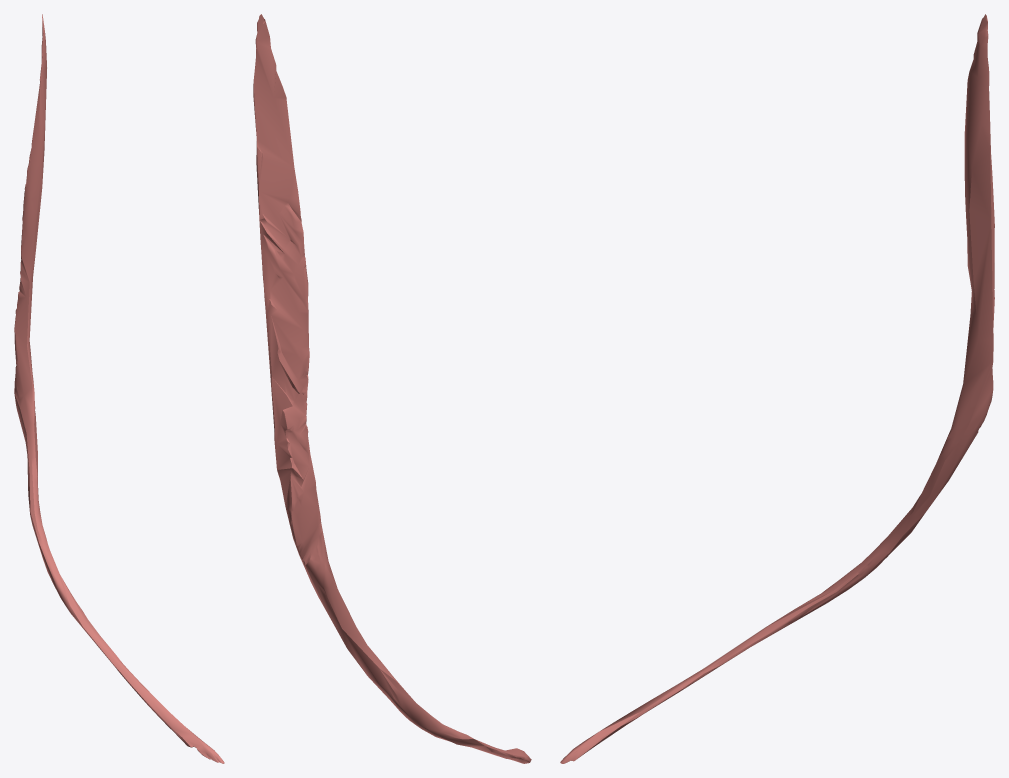
The model's file is fma22547_fj1408m.glb.
3 renders of one model, left to right at view 1: azimuth 30°, elevation 25°; view 2: azimuth 150°, elevation 25°; view 3: azimuth 270°, elevation 25°, orthographic. The views are drawn at different scales.
Visible parts, largest first — view 1: FMA22547_FJ1408M; view 2: FMA22547_FJ1408M; view 3: FMA22547_FJ1408M.
Boxes of the visible parts, x1,y1,x2,y2 form: FMA22547_FJ1408M: [14, 14, 224, 763]; FMA22547_FJ1408M: [253, 14, 531, 763]; FMA22547_FJ1408M: [560, 14, 994, 763].
Bounding box in the file's own units: 0.0277 × 0.2725 × 0.1439.
